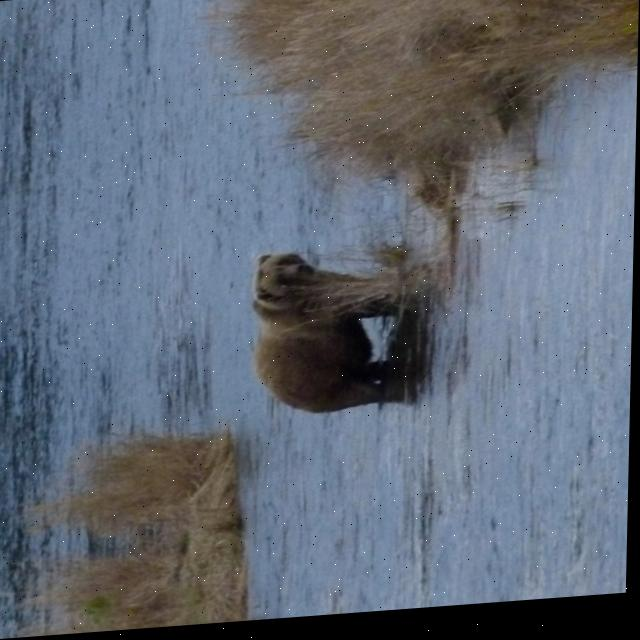bear face: (253, 249, 386, 422)
